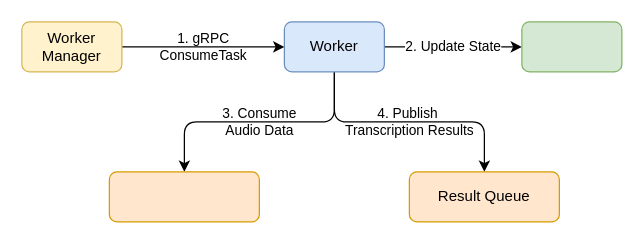
Some shapes in this 644 by 244 pixel diagram are drawn without their labels. The box of each missing label's shape, as (x1, y1, x2, y2) in pixels:
Redis: (521, 21, 622, 72)
Task Queue: (108, 171, 259, 222)
